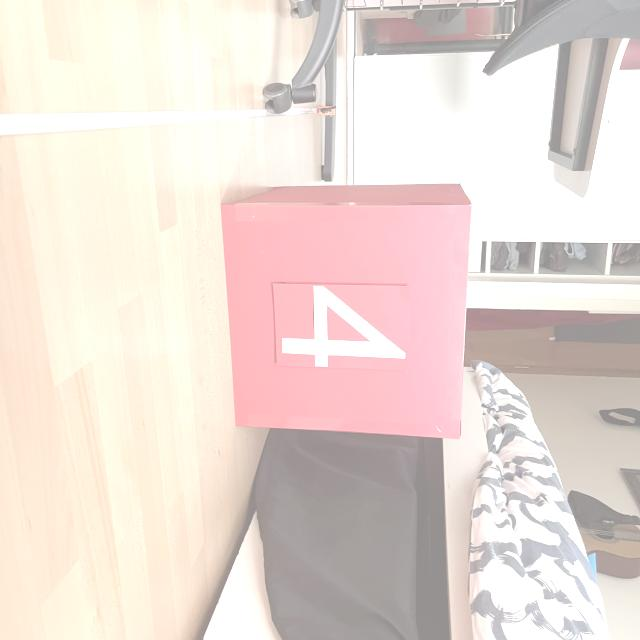box: (216, 180, 474, 440)
